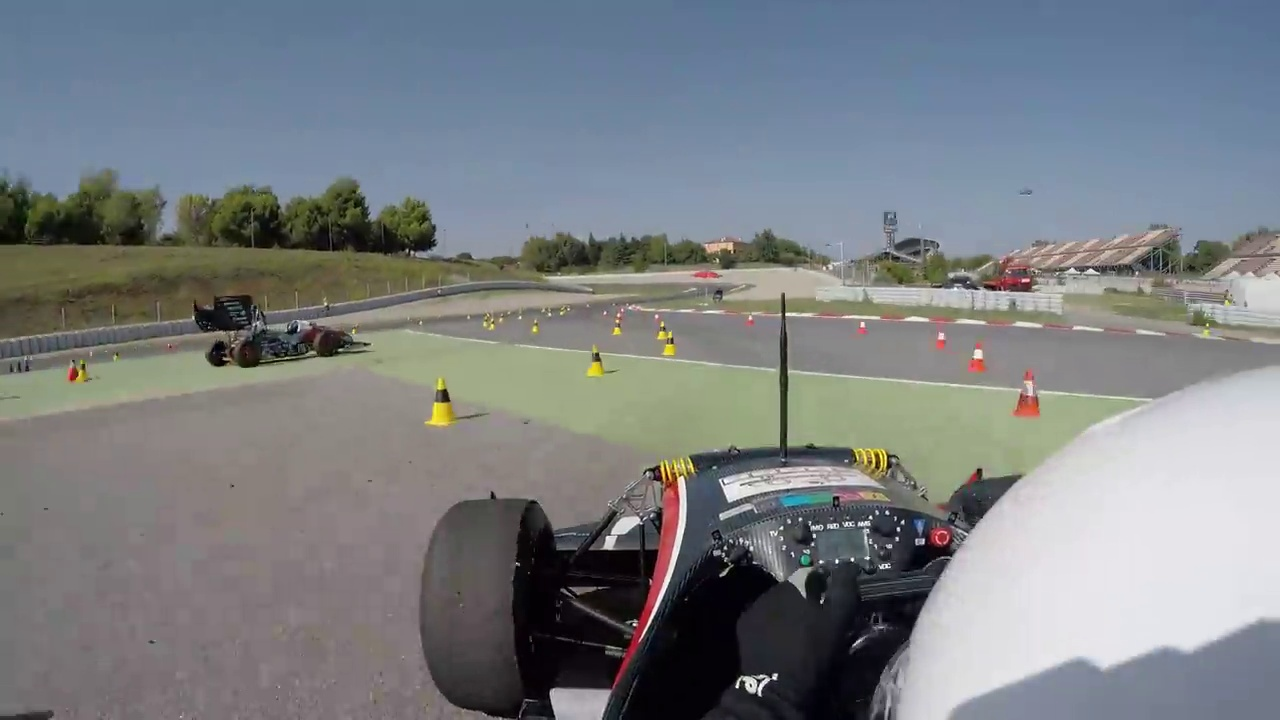Cone: (1012, 367, 1044, 416), (429, 375, 459, 427), (585, 343, 606, 377), (968, 341, 988, 373), (662, 329, 681, 357)
